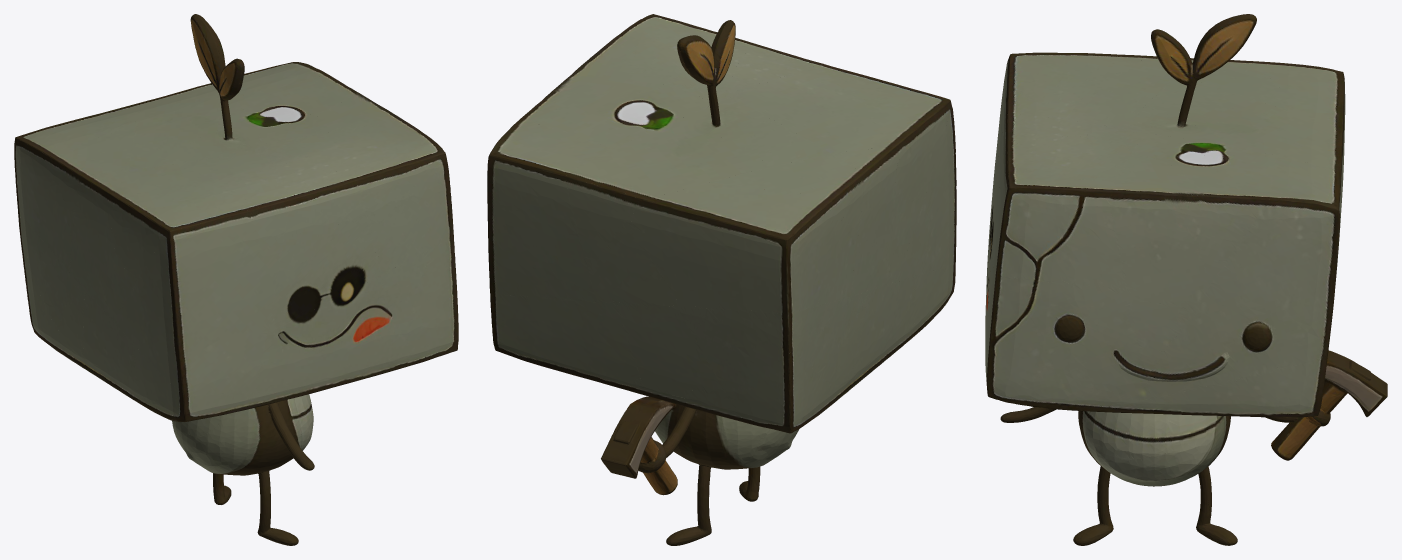
3 renders of one model, left to right at view 1: azimuth 30°, elevation 25°; view 2: azimuth 150°, elevation 25°; view 3: azimuth 270°, elevation 25°, orthographic. The views are drawn at different scales.
Visible parts, largest first — view 1: tripo_node_35ea8a52-a8b9-4447-a84b-2a394356ed88; view 2: tripo_node_35ea8a52-a8b9-4447-a84b-2a394356ed88; view 3: tripo_node_35ea8a52-a8b9-4447-a84b-2a394356ed88.
Boxes of the visible parts, x1,y1,x2,y2 form: tripo_node_35ea8a52-a8b9-4447-a84b-2a394356ed88: (14,14,458,545); tripo_node_35ea8a52-a8b9-4447-a84b-2a394356ed88: (487,14,956,545); tripo_node_35ea8a52-a8b9-4447-a84b-2a394356ed88: (985,14,1387,545).
Bounding box in the file's own units: 64.52 × 100 × 70.01.
Materials: 1 (1 with a texture image).
